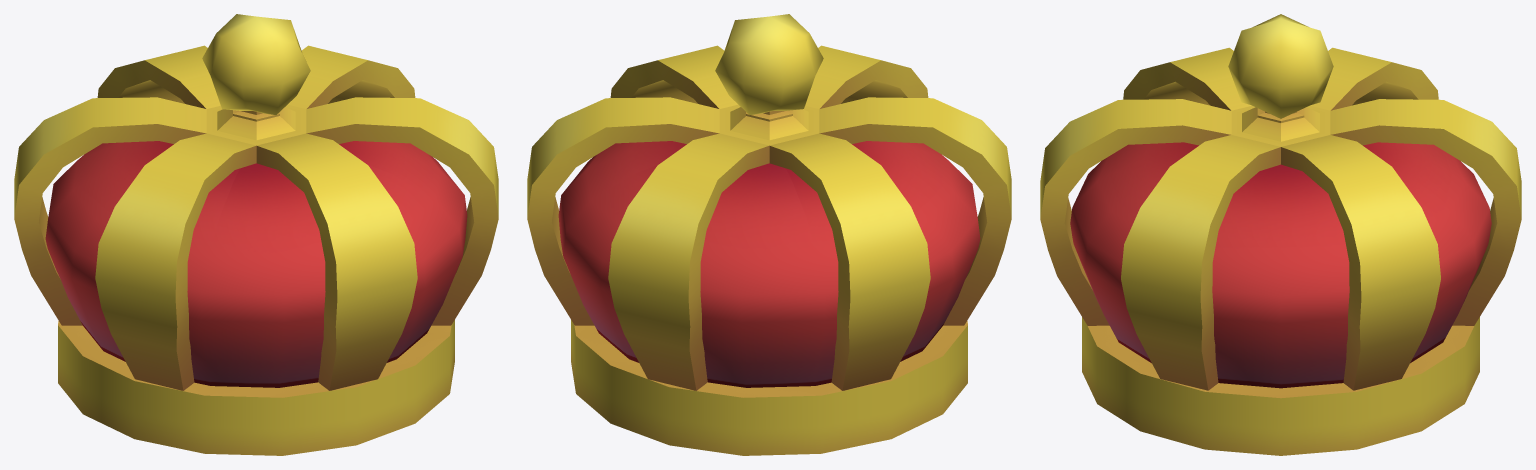
The model's file is crown_anime.fbx.
3 renders of one model, left to right at view 1: azimuth 30°, elevation 25°; view 2: azimuth 150°, elevation 25°; view 3: azimuth 270°, elevation 25°, orthographic.
Visible parts, largest first — view 1: Crown; view 2: Crown; view 3: Crown.
Boxes of the visible parts, bbox=[...] form: Crown: bbox=[14, 14, 498, 455]; Crown: bbox=[527, 14, 1011, 455]; Crown: bbox=[1040, 14, 1521, 455].
Bounding box in the file's own units: 17.25 × 14.52 × 17.94.
